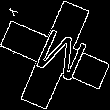M_SW: (23, 22, 87, 88)
